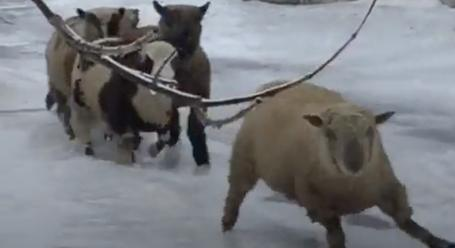sheep: (219, 78, 454, 248), (70, 33, 184, 166), (129, 1, 221, 158), (38, 2, 135, 139)
